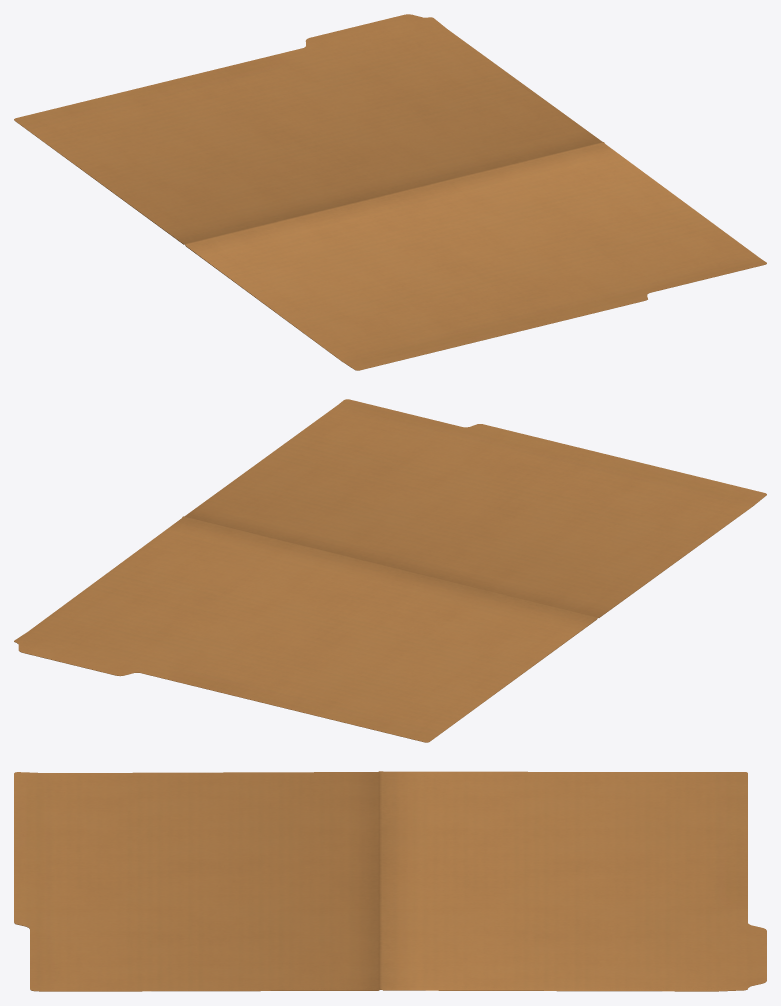
The model's file is Mesh_FolderOpen.fbx.
3 renders of one model, top to bottom at view 1: azimuth 30°, elevation 25°; view 2: azimuth 150°, elevation 25°; view 3: azimuth 270°, elevation 25°, orthographic. The views are drawn at different scales.
Parts seen in each view (by area): view 1: Mesh_FolderOpen_LOD0; view 2: Mesh_FolderOpen_LOD0; view 3: Mesh_FolderOpen_LOD0.
Part boxes in pixels (<box>): Mesh_FolderOpen_LOD0: <box>14,14,766,370</box>; Mesh_FolderOpen_LOD0: <box>14,399,766,742</box>; Mesh_FolderOpen_LOD0: <box>14,771,766,991</box>.
Size of what is drawn, in the model's own units: 0.3015 by 0.00144 by 0.4394.
